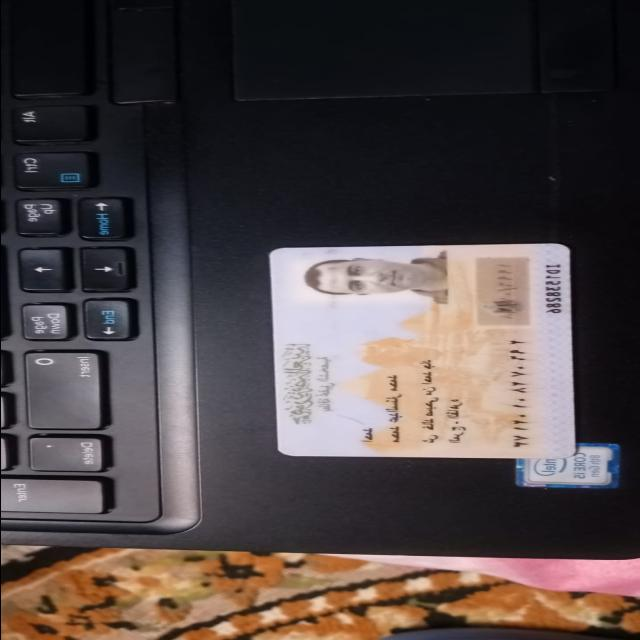id_card: (263, 237, 582, 463)
